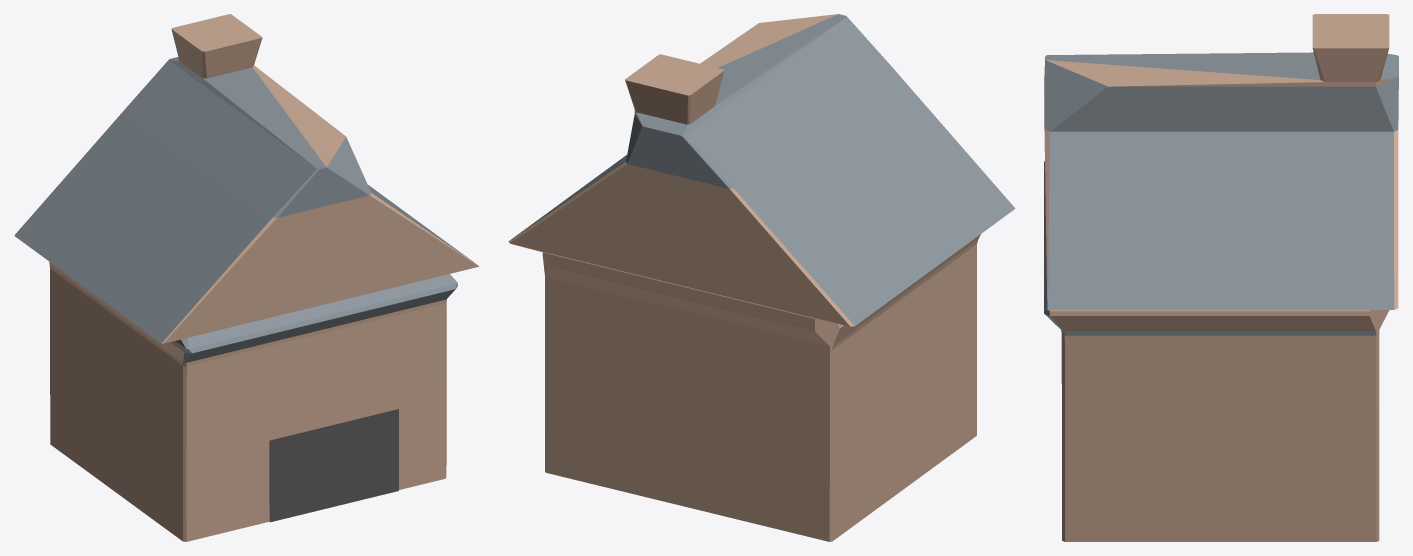
Rendered from loin.glb.
3 views of the same model, side by side, from view 1: azimuth 30°, elevation 25°; view 2: azimuth 150°, elevation 25°; view 3: azimuth 270°, elevation 25° (orthographic). The views are drawn at different scales.
Visible parts, largest first — view 1: loin; view 2: loin; view 3: loin.
Boxes of the visible parts, <box> form: loin: <box>14,14,479,541</box>; loin: <box>508,14,1015,541</box>; loin: <box>1044,14,1398,541</box>.
Size of the model in its own units: 0.8178 by 0.9384 by 0.6726.
